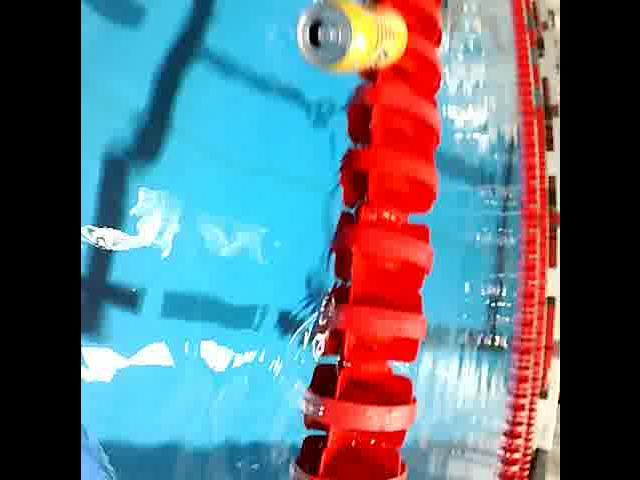Bottle: (80, 401, 156, 480)
Can: (288, 0, 412, 76)
